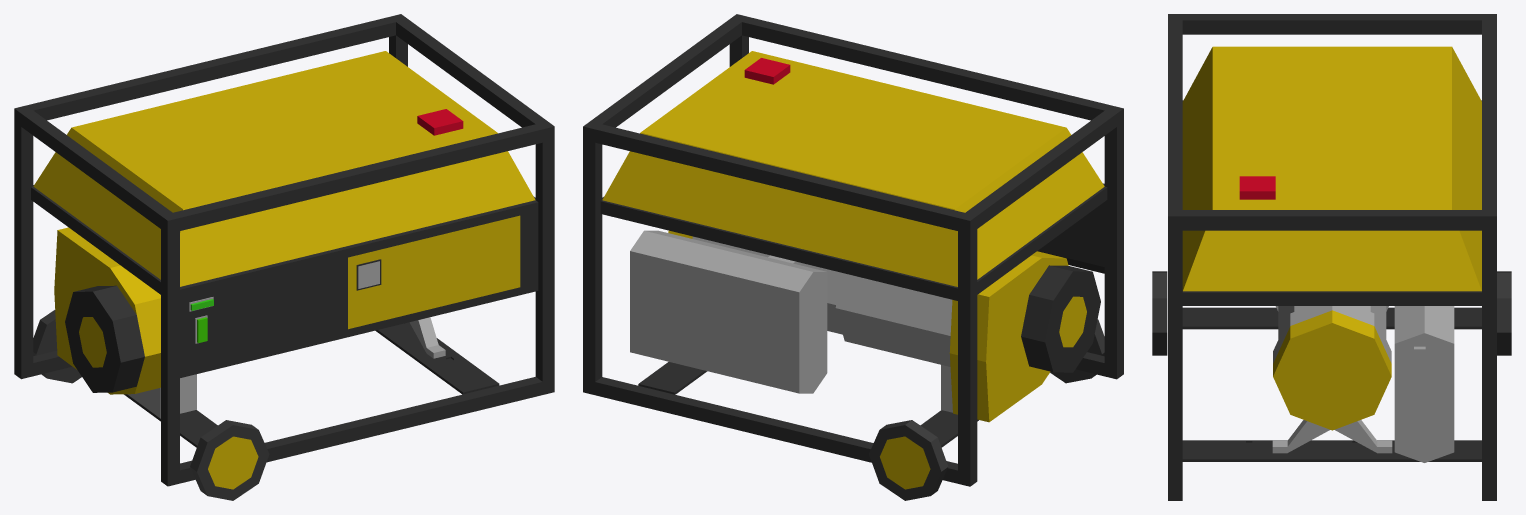
Rendered from Generator.fbx.
The picture shows the model from 3 angles, left to right: view 1: azimuth 30°, elevation 25°; view 2: azimuth 150°, elevation 25°; view 3: azimuth 270°, elevation 25°; orthographic projection. The views are drawn at different scales.
Parts seen in each view (by area): view 1: Generator, Motor, Cylinder, Cylinder.001, Cube.002; view 2: Generator, Motor, Cylinder.001, Cube.002, Cylinder; view 3: Generator, Motor, Cylinder, Cylinder.001, Cube.002.
Boxes of the visible parts, x1,y1,x2,y2 form: Generator: (14,14,554,486); Motor: (54,227,160,394); Cylinder: (190,420,269,500); Cylinder.001: (33,310,81,383); Cube.002: (417,109,463,135); Generator: (583,14,1123,486); Motor: (630,230,1100,422); Cylinder.001: (869,420,948,500); Cube.002: (744,58,790,84); Cylinder: (1050,319,1104,383); Generator: (1168,14,1496,500); Motor: (1273,306,1454,462); Cylinder: (1152,271,1167,355); Cylinder.001: (1497,271,1511,355); Cube.002: (1239,176,1275,199).
Size of the model in its own units: 330 by 228 by 240.
